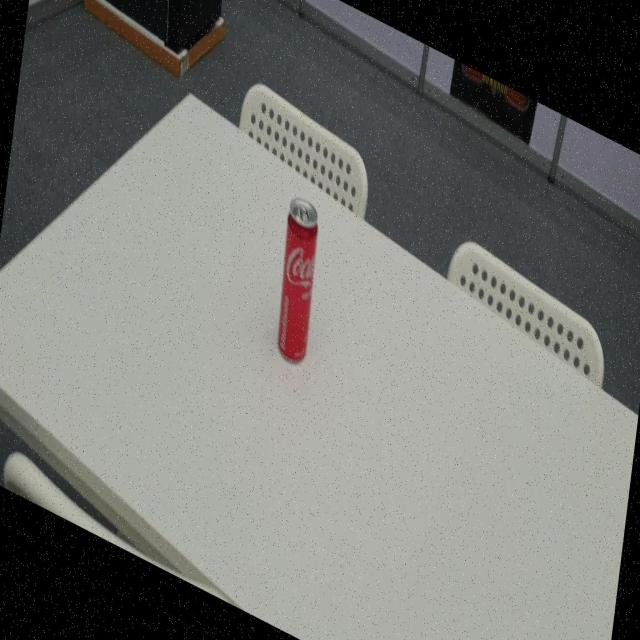coca-cola: (269, 190, 325, 375)
